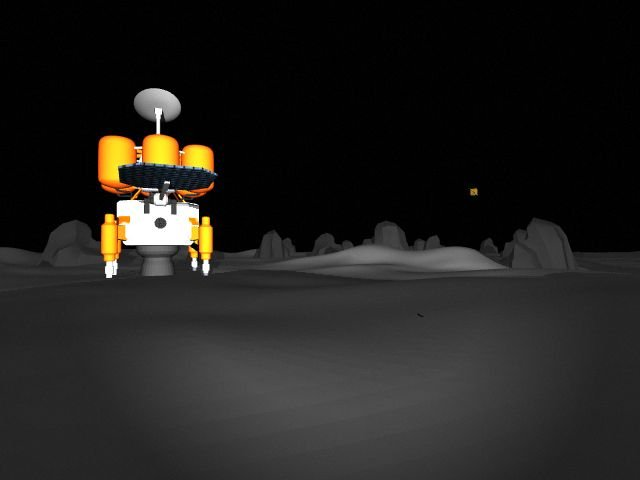homebase: (95, 86, 221, 280)
